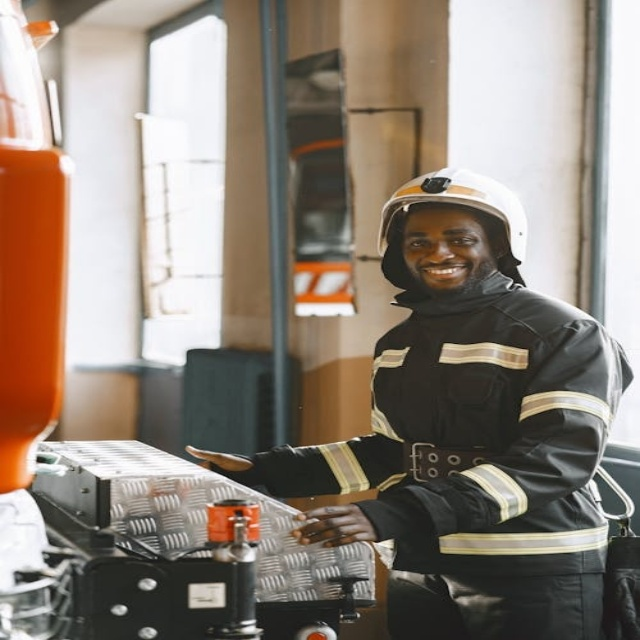Sin_gafas: (403, 228, 480, 251)
Sin_guantes: (290, 502, 377, 548), (184, 445, 253, 473)
Sin_mascara: (413, 263, 472, 287)
